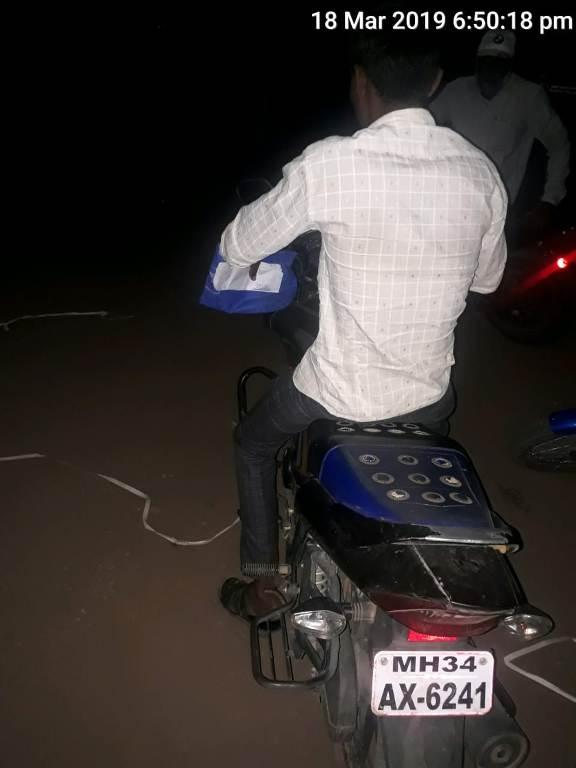plate: (357, 642, 511, 726)
